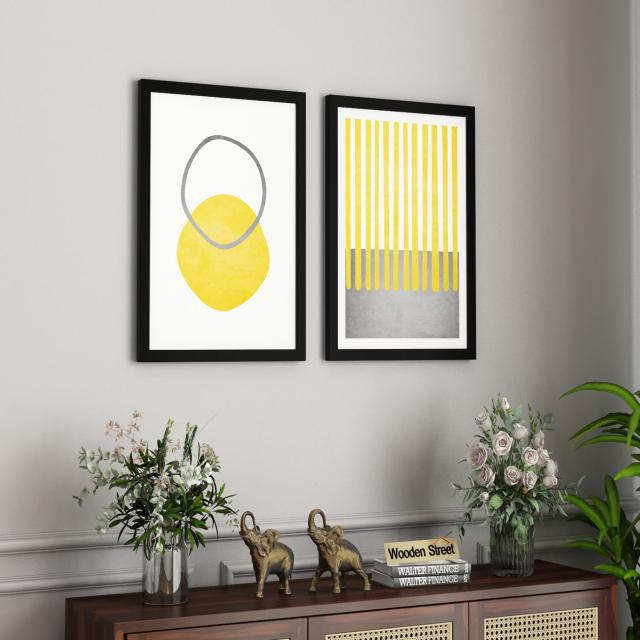painting: (143, 80, 306, 361), (330, 94, 477, 358)
